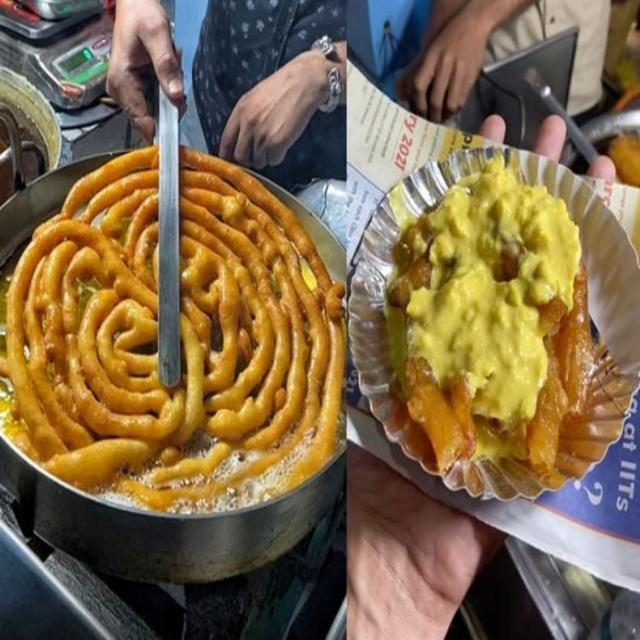jalebi: (17, 160, 335, 488)
